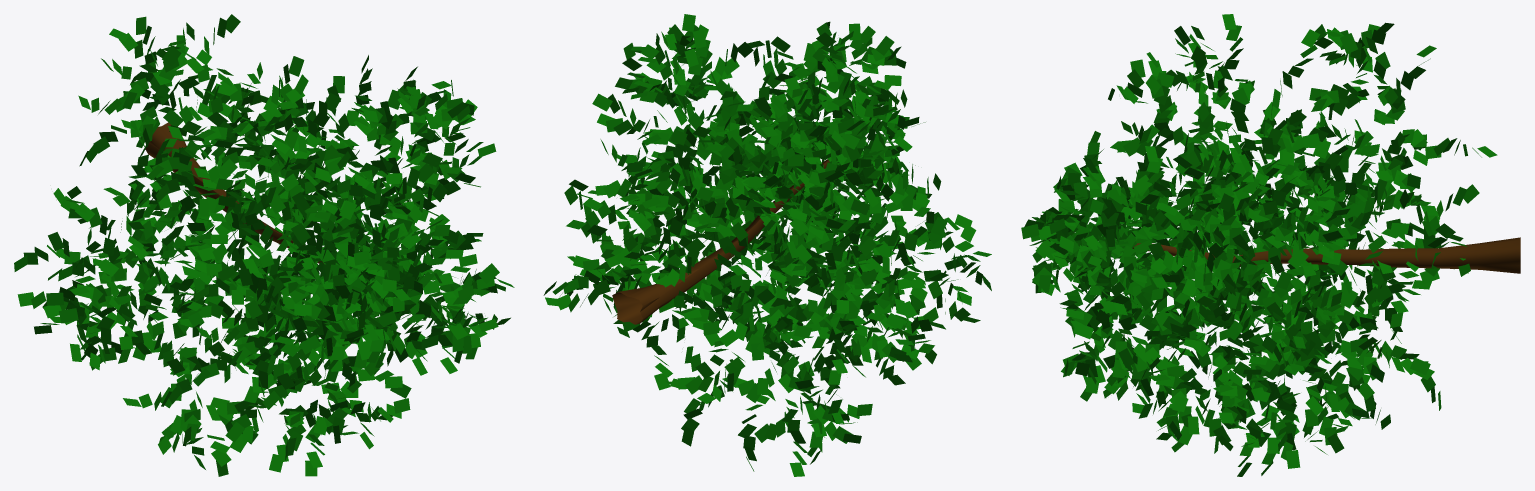
File: oak.fbx
The picture shows the model from 3 angles, left to right: view 1: azimuth 30°, elevation 25°; view 2: azimuth 150°, elevation 25°; view 3: azimuth 270°, elevation 25°; orthographic projection. The views are drawn at different scales.
Parts seen in each view (by area): view 1: Foliage01_Leaves, Foliage01_Trunk; view 2: Foliage01_Leaves, Foliage01_Trunk; view 3: Foliage01_Leaves, Foliage01_Trunk.
Boxes of the visible parts, left/top/right/bottom form: Foliage01_Leaves: left=14, top=14, right=514, bottom=476; Foliage01_Trunk: left=145, top=122, right=324, bottom=264; Foliage01_Leaves: left=543, top=14, right=991, bottom=476; Foliage01_Trunk: left=612, top=159, right=829, bottom=324; Foliage01_Leaves: left=1021, top=14, right=1497, bottom=476; Foliage01_Trunk: left=1132, top=237, right=1520, bottom=273.
Bounding box in the file's own units: 228 × 213 × 226.
Materials: 2 (2 with a texture image).
